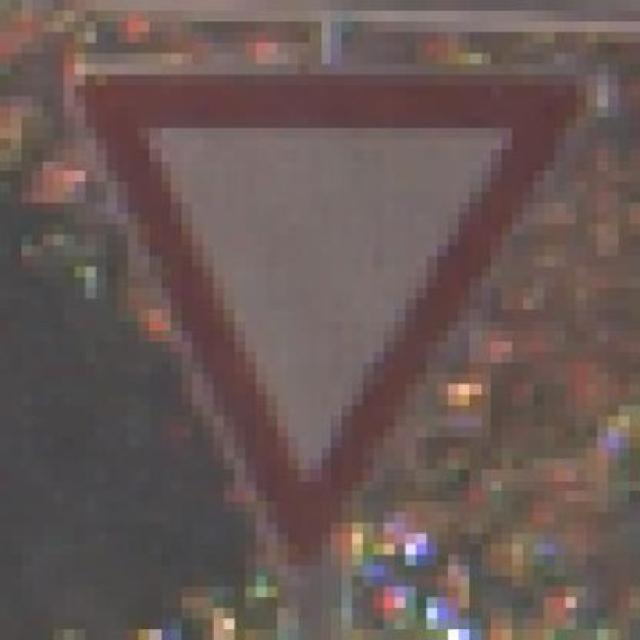Give Way: (69, 25, 592, 623)
